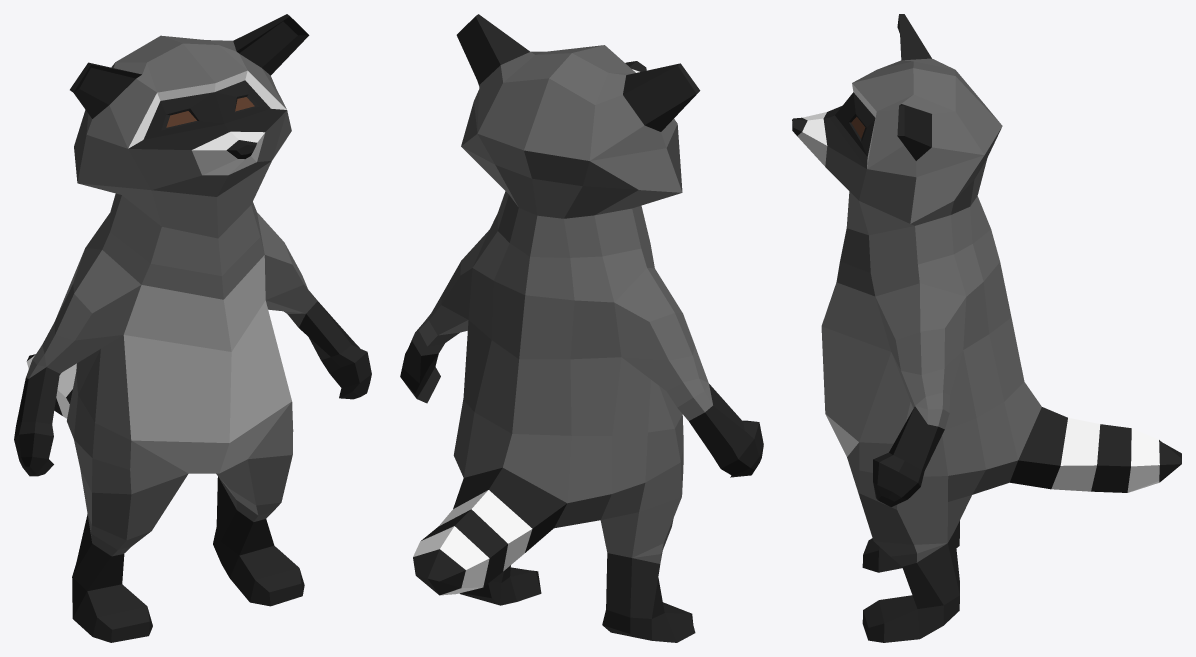
File: racoon.glb
3 renders of one model, left to right at view 1: azimuth 30°, elevation 25°; view 2: azimuth 150°, elevation 25°; view 3: azimuth 270°, elevation 25°, orthographic. The views are drawn at different scales.
Parts seen in each view (by area): view 1: racoon; view 2: racoon; view 3: racoon.
Boxes of the visible parts, x1,y1,x2,y2 form: racoon: (14, 14, 371, 642); racoon: (400, 14, 763, 642); racoon: (792, 14, 1181, 642).
Size of the model in its own units: 2.55 by 4 by 2.63.
Materials: 1 (1 with a texture image).
